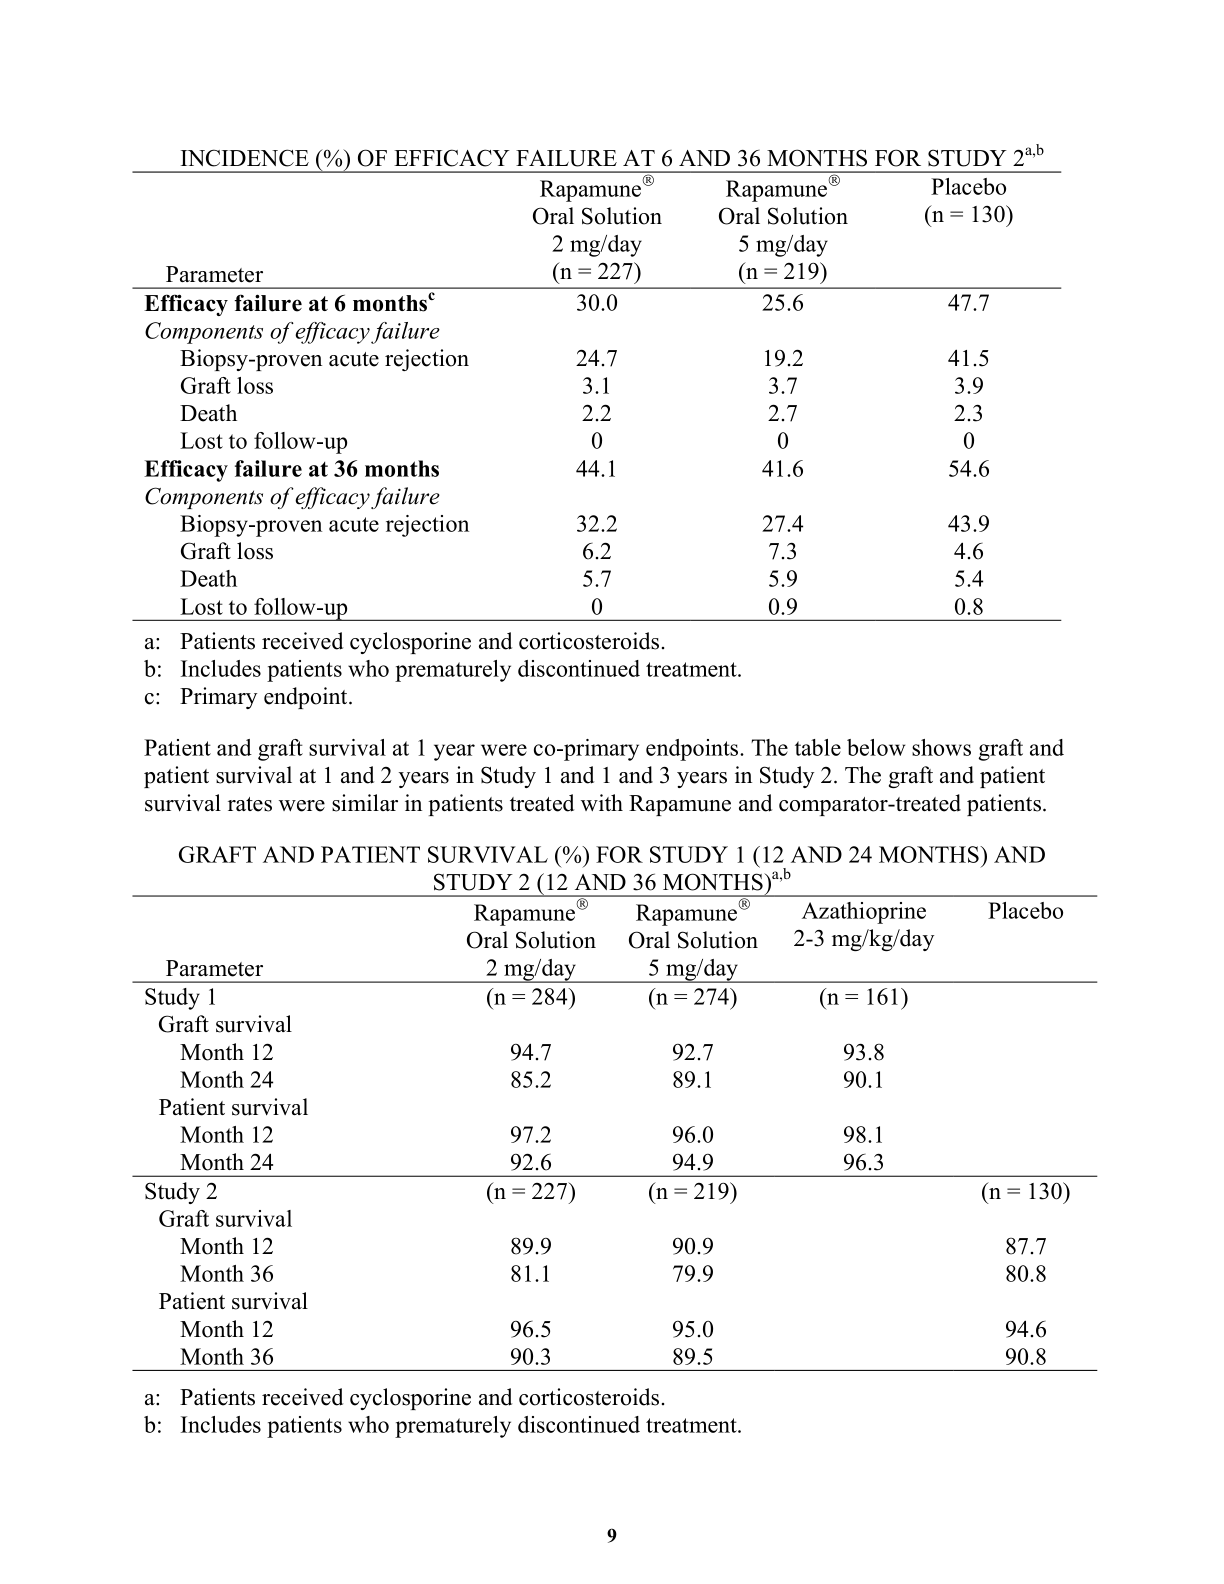partial_lined: (132, 895, 1097, 1372), (130, 168, 1062, 622)
